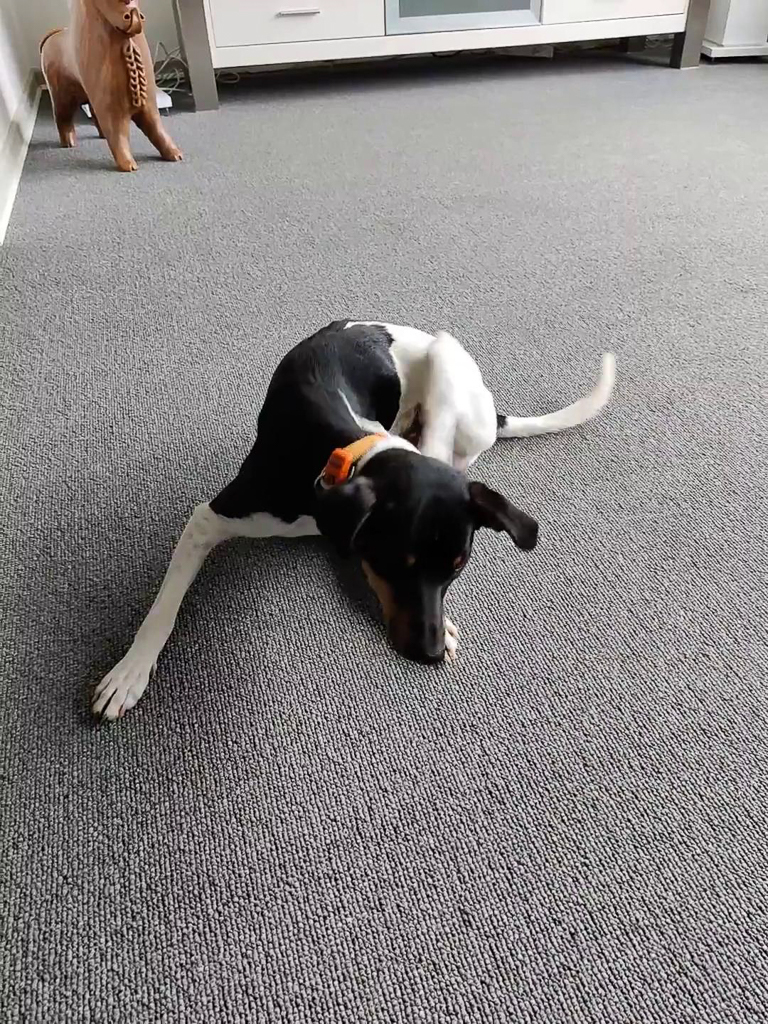Cattle: (31, 0, 204, 183)
Dog: (51, 307, 645, 750)
